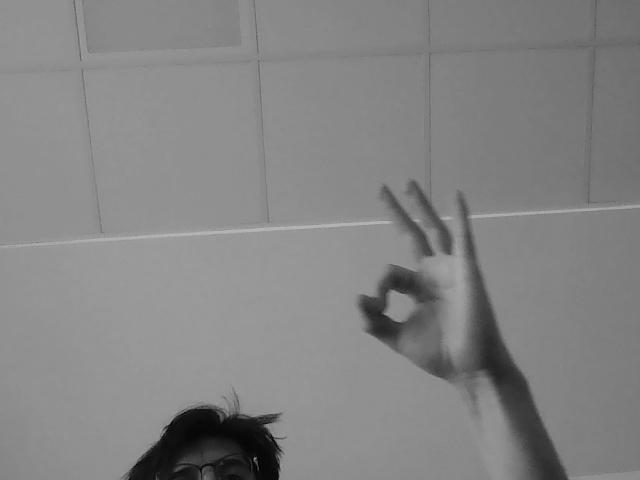OK: (356, 175, 507, 387)
